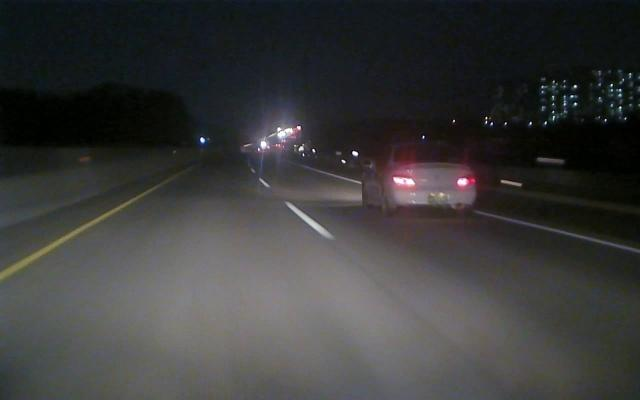lane: (318, 170, 639, 254), (1, 176, 175, 281), (260, 176, 334, 238)
